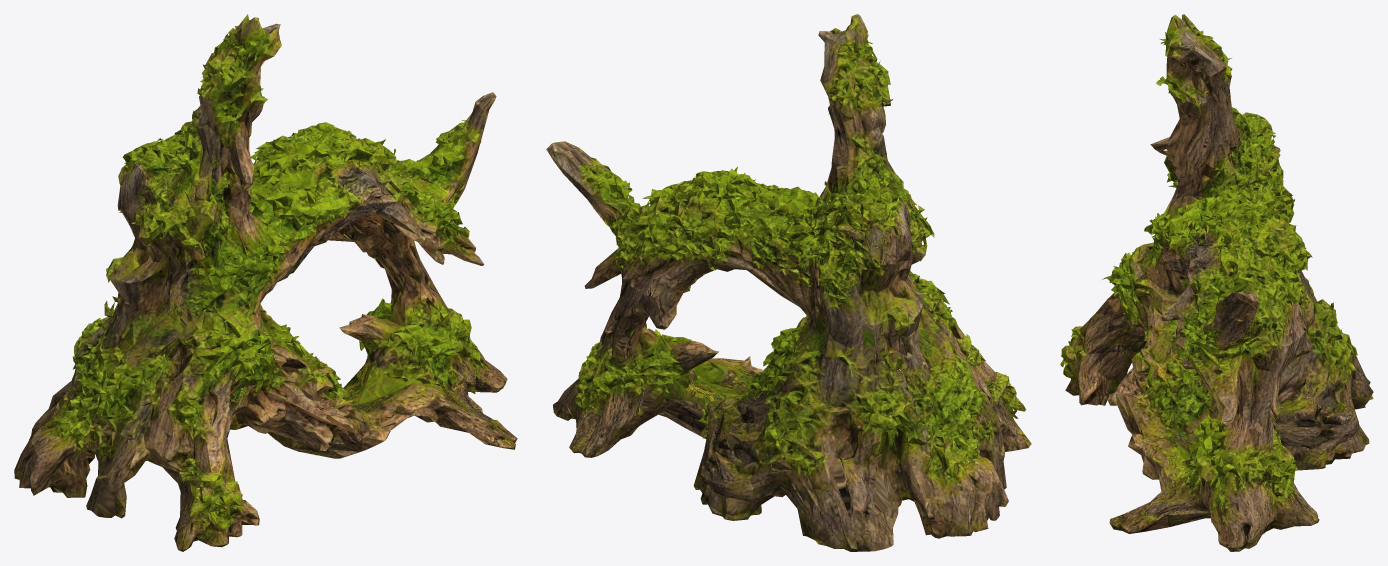
Rendered from driftwood_mossy.glb.
3 views of the same model, side by side, from view 1: azimuth 30°, elevation 25°; view 2: azimuth 150°, elevation 25°; view 3: azimuth 270°, elevation 25° (orthographic). The views are drawn at different scales.
Parts seen in each view (by area): view 1: output_unwrapped; view 2: output_unwrapped; view 3: output_unwrapped.
Part boxes in pixels (box(x1,y1,x2,y2)): output_unwrapped: box(14, 14, 517, 551); output_unwrapped: box(546, 14, 1031, 551); output_unwrapped: box(1060, 14, 1373, 551).
Bounding box in the file's own units: 1.9 × 1.77 × 1.21.
1 material, 1 textured.
